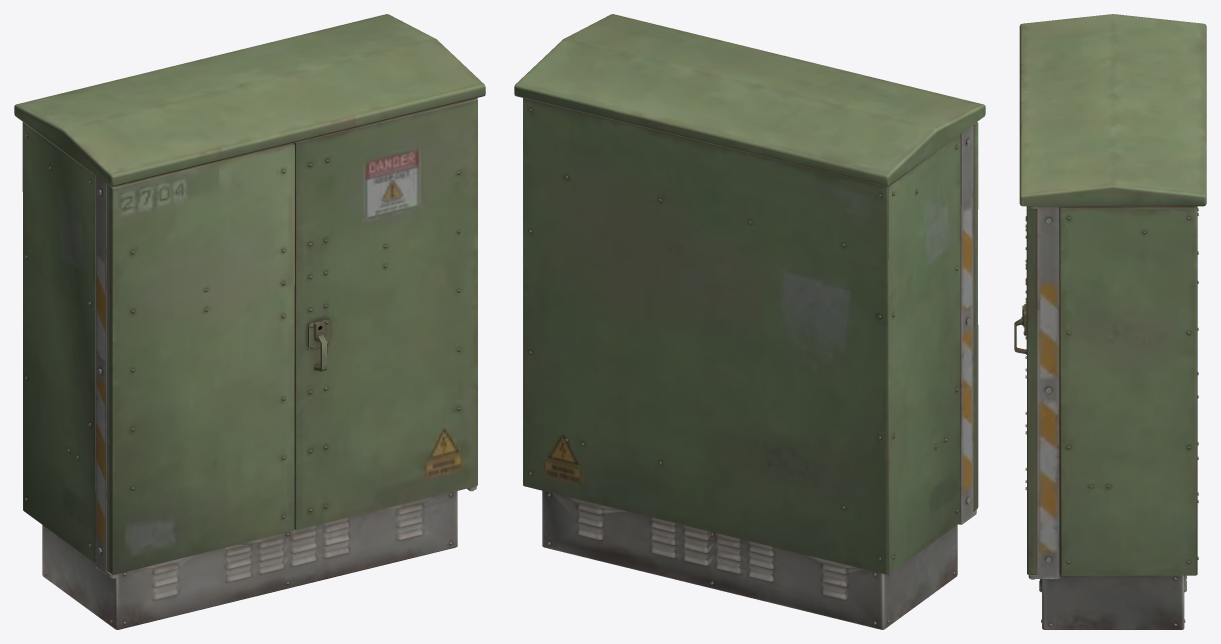
The model's file is utility-box.glb.
3 renders of one model, left to right at view 1: azimuth 30°, elevation 25°; view 2: azimuth 150°, elevation 25°; view 3: azimuth 270°, elevation 25°, orthographic. The views are drawn at different scales.
Visible parts, largest first — view 1: utility_box_02; view 2: utility_box_02; view 3: utility_box_02.
Part boxes in pixels (bbox=[...]): utility_box_02: bbox=[14, 14, 485, 629]; utility_box_02: bbox=[514, 14, 985, 629]; utility_box_02: bbox=[1014, 14, 1206, 629].
Size of the model in its own units: 0.92 by 1.12 by 0.432.
Materials: 1 (1 with a texture image).
